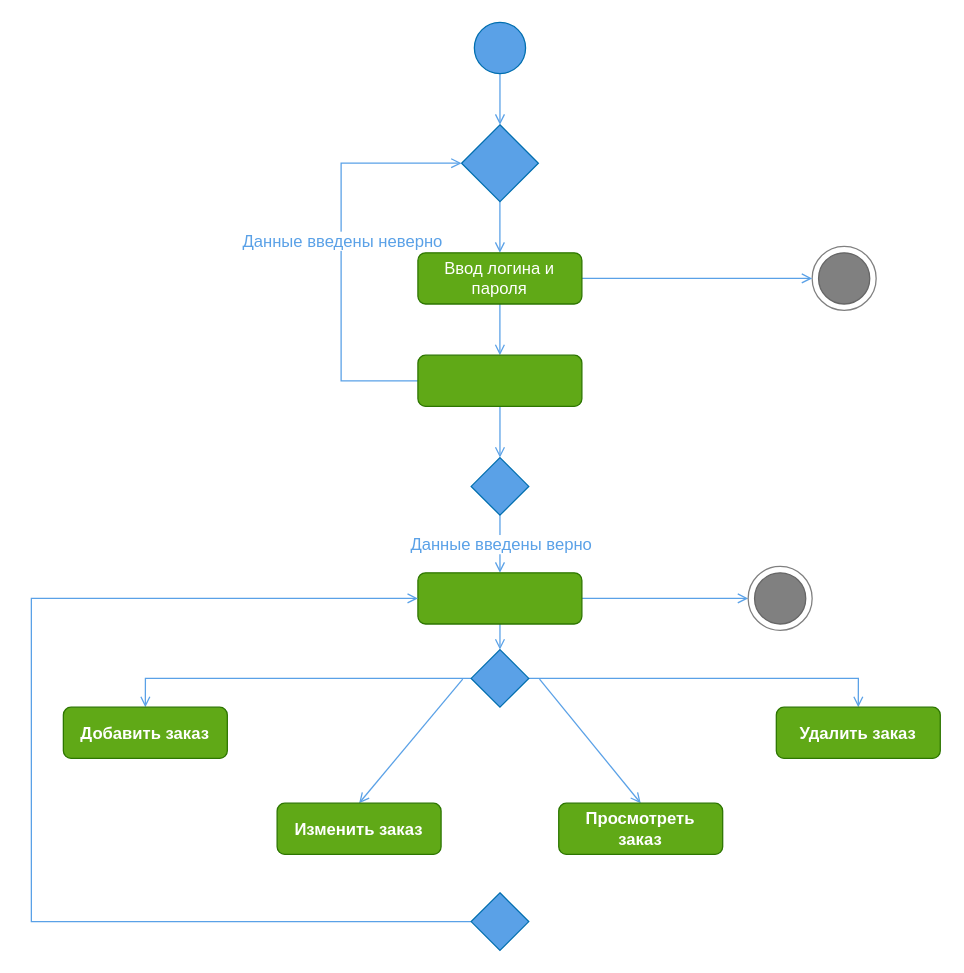
Image size: 964x973. Some labels were removed from this diagram. The shapes that lost their labels are listed below. From the top down, each one's centre as x and y in pixels, then its label:
At point (499, 380): "Проверка логина и пароля".
At point (499, 598): "Выбор действия".
